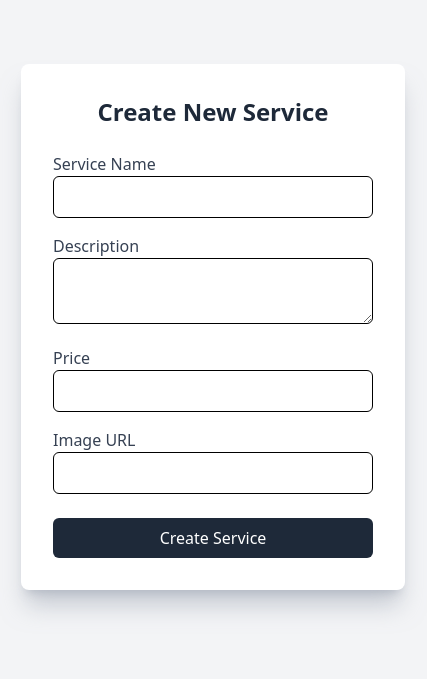
Test: ServiceCreate component › should show validation errors on invalid input
Click the button "Create Service".
click(213, 538)  # box top-left (53, 518), bottom-right (373, 558)
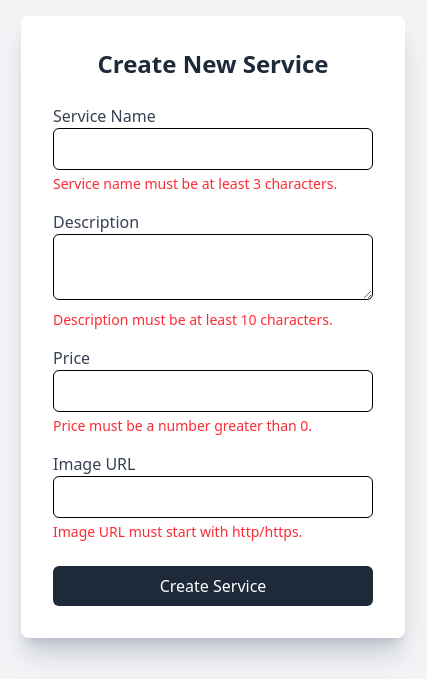
Result: the text "Service name must be at least 3 characters." is shown at top-left (53, 174), bottom-right (373, 194)
Result: the text "Description must be at least 10 characters." is shown at top-left (53, 310), bottom-right (373, 330)
Result: the text "Price must be a number greater than 0." is shown at top-left (53, 416), bottom-right (312, 435)
